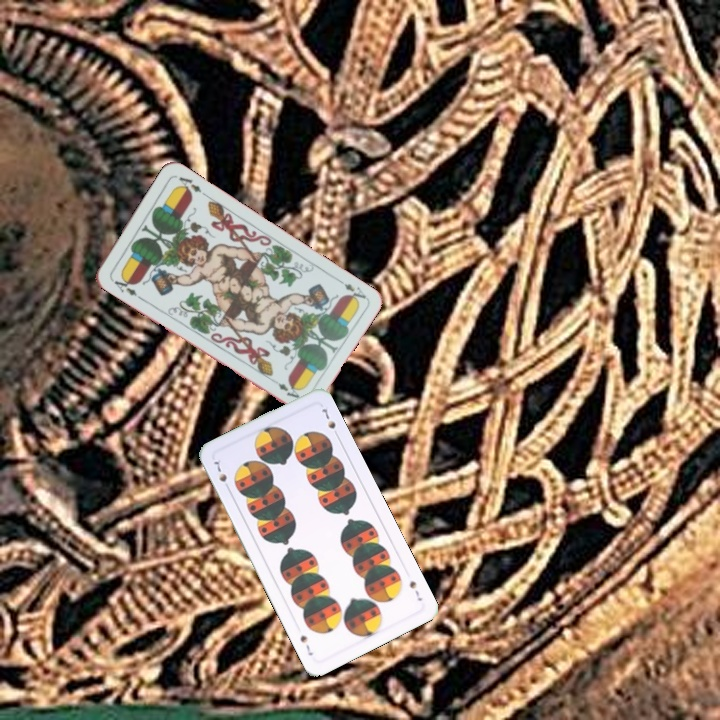EA: (332, 274, 369, 305), (107, 272, 140, 298)
S7: (210, 457, 233, 493), (405, 577, 425, 604)
